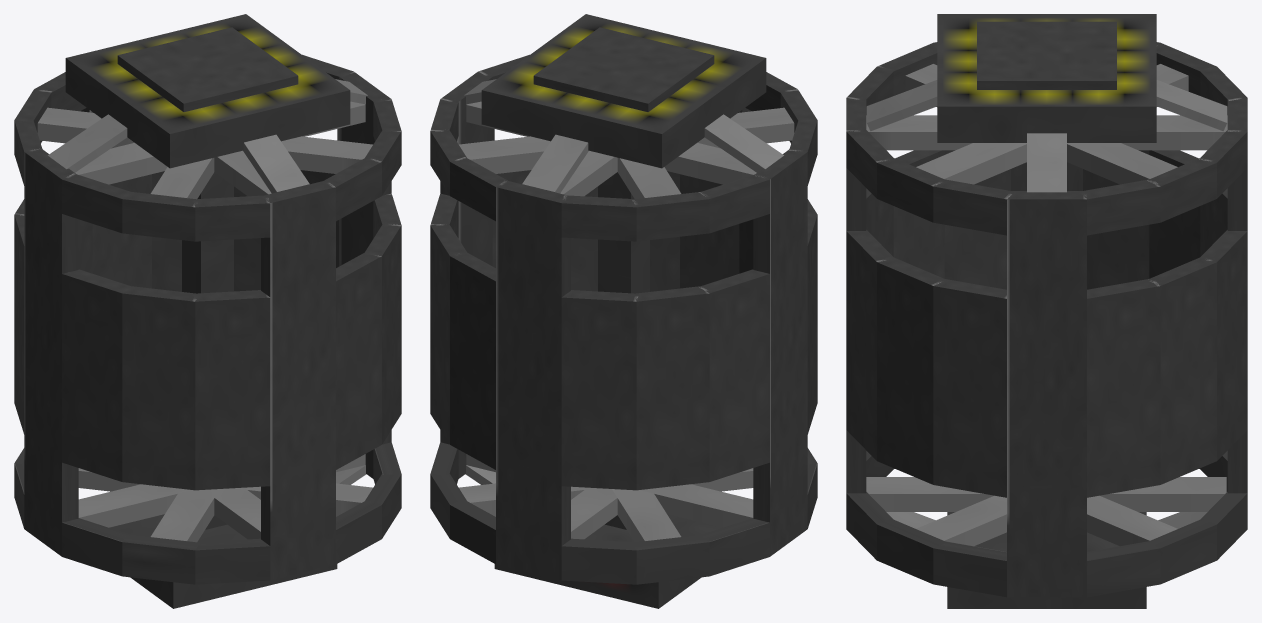
File: turbine_big.obj
3 renders of one model, left to right at view 1: azimuth 30°, elevation 25°; view 2: azimuth 150°, elevation 25°; view 3: azimuth 270°, elevation 25°, orthographic. The views are drawn at different scales.
Visible parts, largest first — view 1: hexadecagon, cube; view 2: hexadecagon, cube; view 3: hexadecagon, cube.
Part boxes in pixels (<box>): hexadecagon: <box>14,54,401,584</box>; cube: <box>37,14,372,608</box>; hexadecagon: <box>430,54,817,584</box>; cube: <box>459,14,794,608</box>; hexadecagon: <box>846,42,1247,597</box>; cube: <box>866,14,1227,608</box>.
Bounding box in the file's own units: 10.05 × 14.5 × 10.05.
